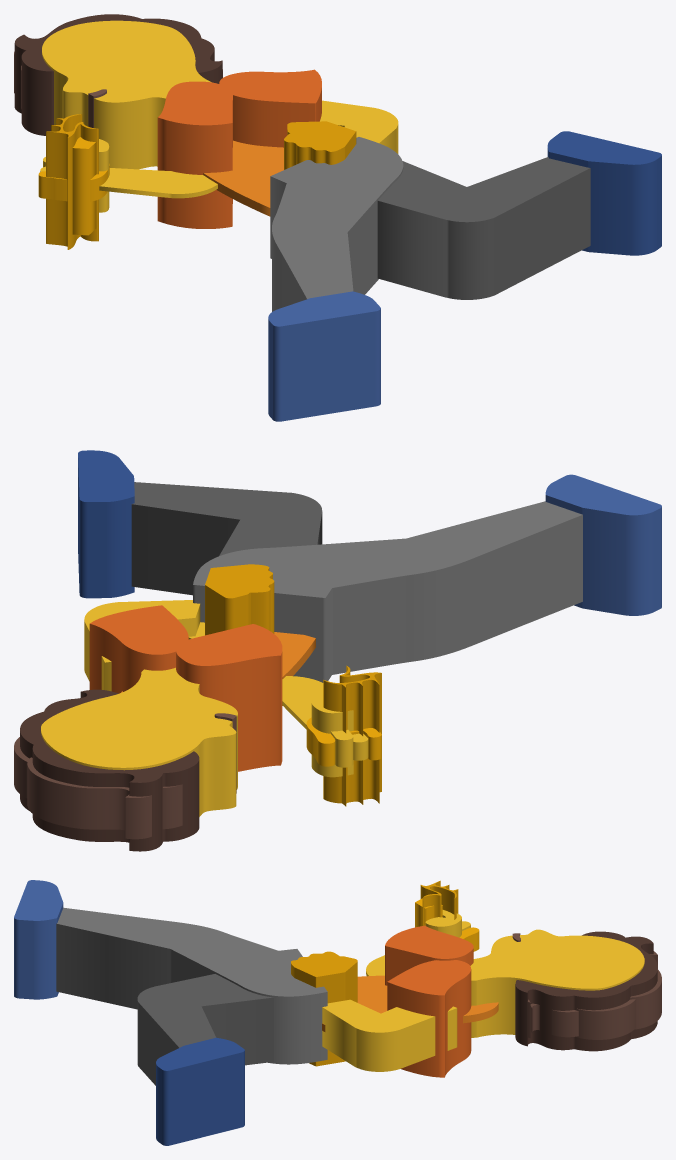
The model's file is emoji_u1f3c3.glb.
3 views of the same model, one above another, from view 1: azimuth 30°, elevation 25°; view 2: azimuth 150°, elevation 25°; view 3: azimuth 270°, elevation 25° (orthographic). The views are drawn at different scales.
Visible parts, largest first — view 1: emoji_u1f3c3; view 2: emoji_u1f3c3; view 3: emoji_u1f3c3.
Part boxes in pixels (x1=…): emoji_u1f3c3: x1=14, y1=14, x2=661, y2=421; emoji_u1f3c3: x1=14, y1=450, x2=661, y2=851; emoji_u1f3c3: x1=14, y1=880, x2=661, y2=1145.
Size of the model in its own units: 0.0227 by 0.0052 by 0.0329.
